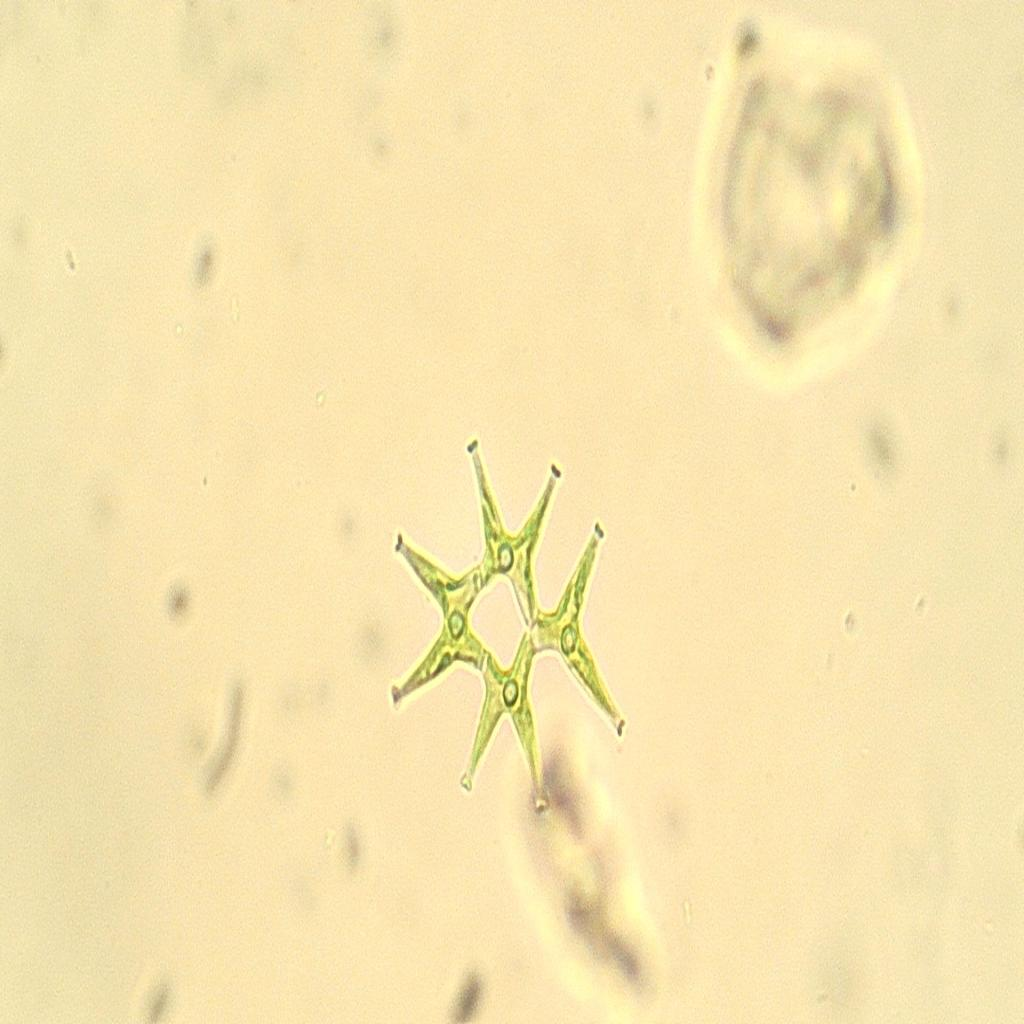Pediastrum_CT: (383, 415, 639, 824)
